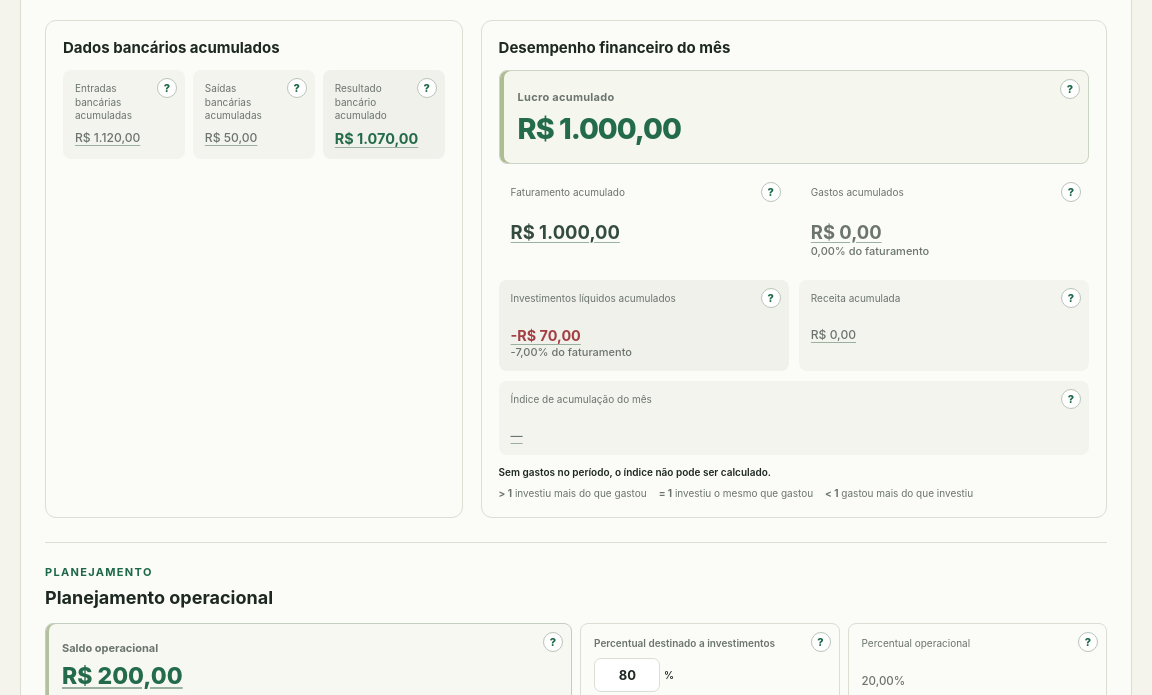
detalhamento dos indicadores acumulados › exibe normalmente investimento líquido e percentual negativos
(page scrolled)
Click the button "-R$ 70,00".
click(546, 335)  # box [507,323,585,348]
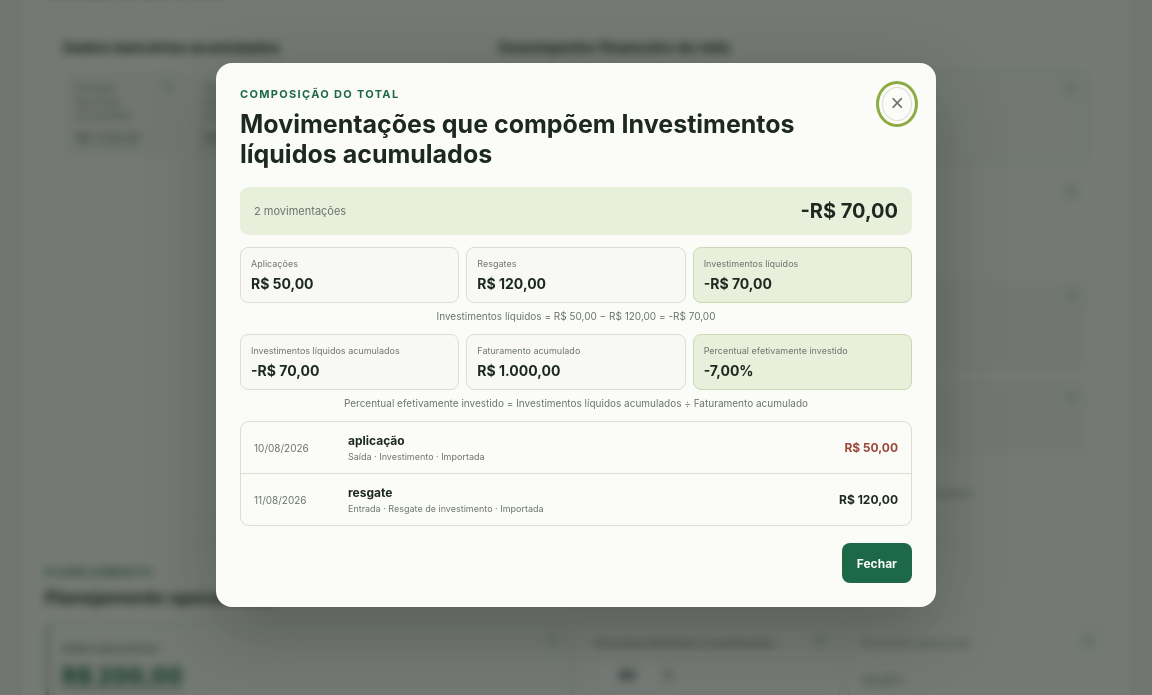
Check: the text "R$ 50,00" in the row of "aplicação" is shown, box [844,440,898,455]
Check: the text "R$ 120,00" in the row of "Resgate de investimento" is shown, box [839,492,898,507]
Check: the 1st text "-R$ 70,00" is shown, box [800,199,898,223]
